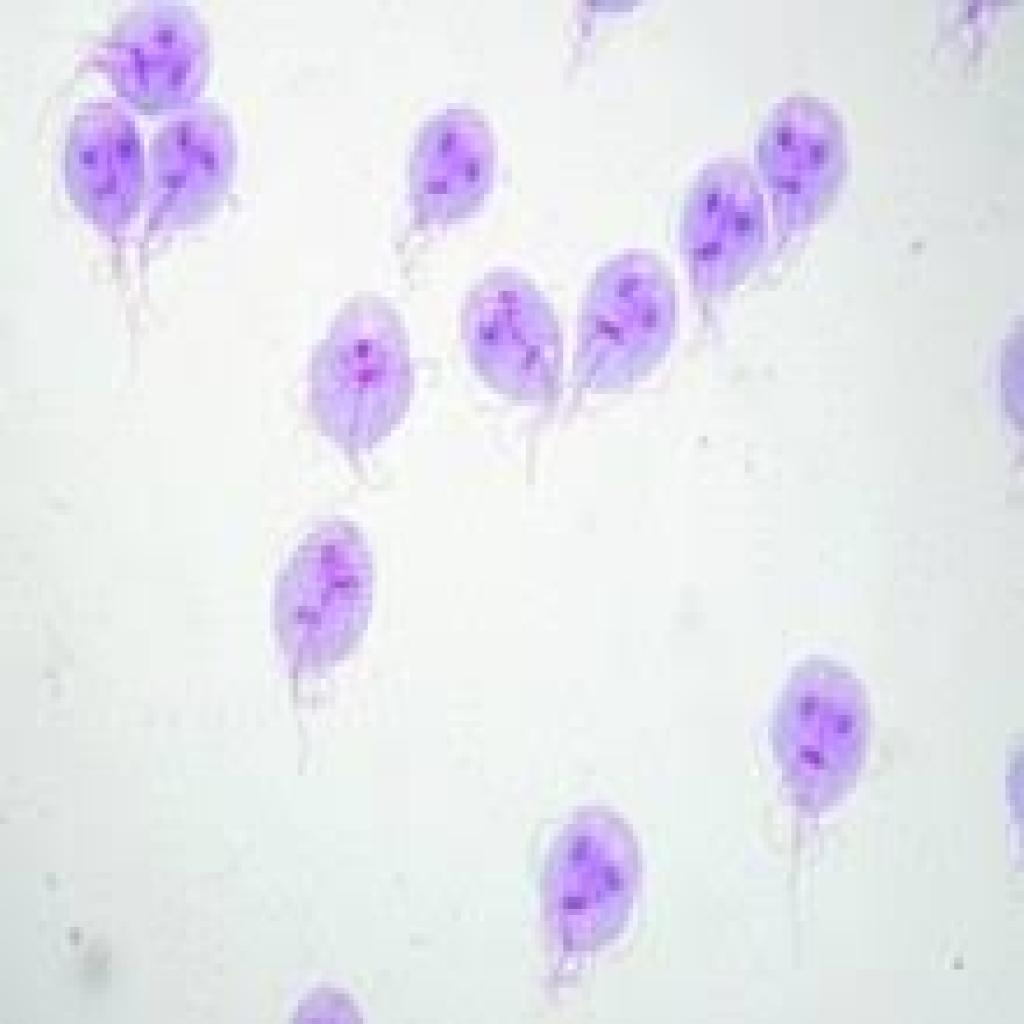Giardia: (530, 794, 652, 982), (298, 284, 414, 472), (764, 648, 870, 848), (265, 515, 382, 691), (572, 248, 680, 412), (452, 261, 563, 418), (759, 91, 847, 266), (396, 97, 493, 254), (75, 0, 214, 109), (675, 152, 763, 315), (144, 103, 242, 242), (60, 91, 140, 260)
